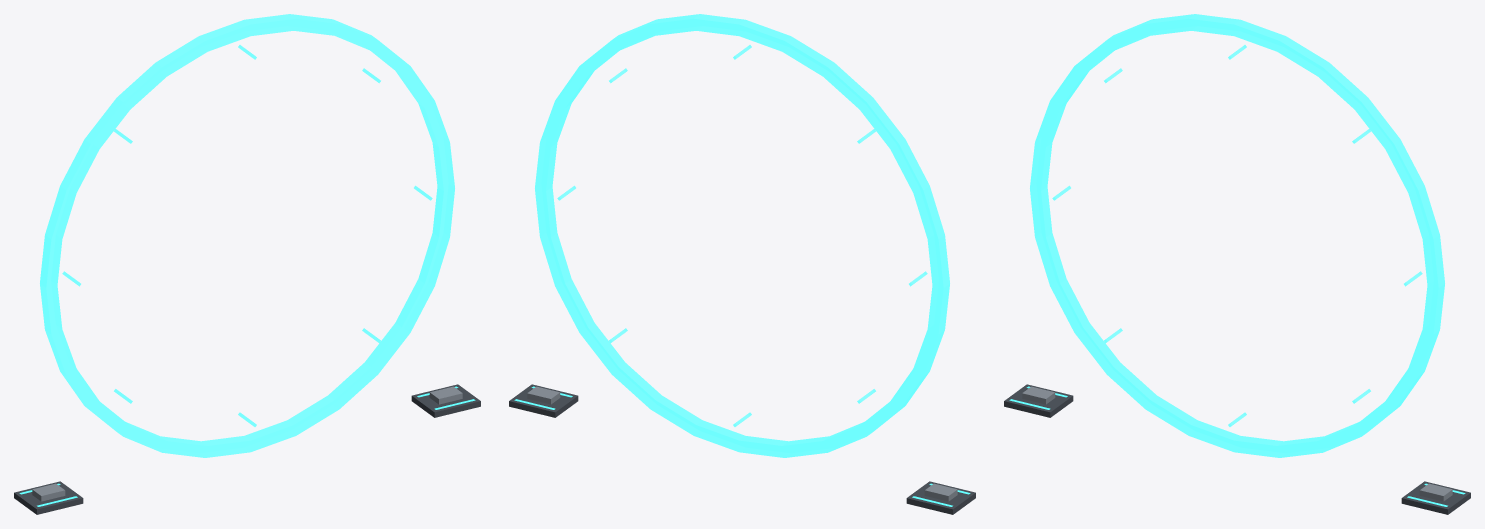
Rendered from race_checkpoint.glb.
3 renders of one model, left to right at view 1: azimuth 30°, elevation 25°; view 2: azimuth 150°, elevation 25°; view 3: azimuth 330°, elevation 25°, orthographic.
Parts seen in each view (by area): view 1: Ring, Body; view 2: Ring, Body; view 3: Ring, Body.
Part boxes in pixels (x1=…): Ring: x1=40, y1=14, x2=454, y2=457; Body: x1=14, y1=384, x2=480, y2=514; Ring: x1=535, y1=14, x2=949, y2=457; Body: x1=509, y1=384, x2=975, y2=514; Ring: x1=1030, y1=14, x2=1444, y2=457; Body: x1=1004, y1=384, x2=1470, y2=514.
Size of the model in its own units: 6.7 by 6.2 by 0.6.
